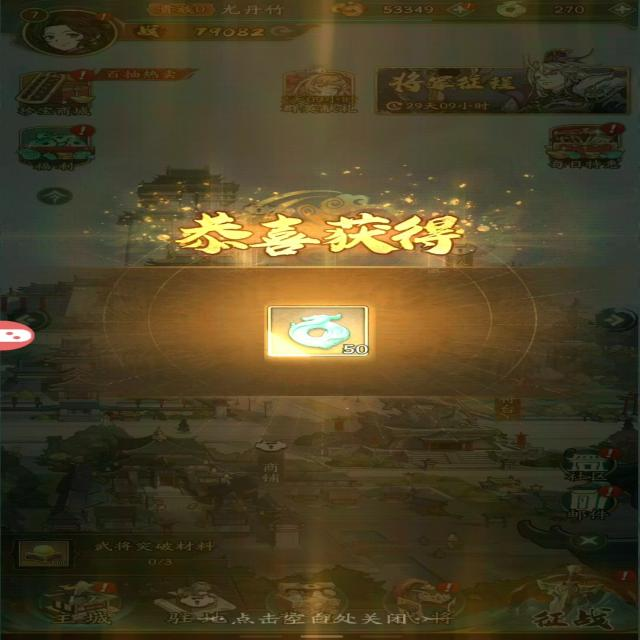hint-guide: (221, 607, 429, 631)
